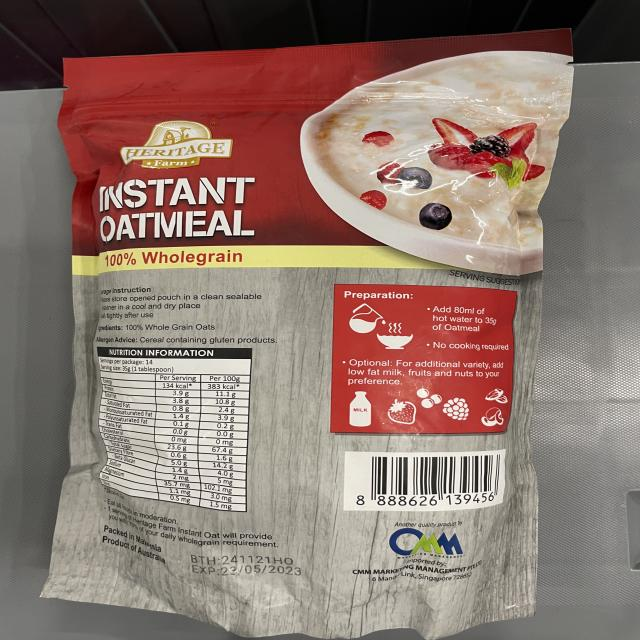object_name: (72, 63, 531, 610)
